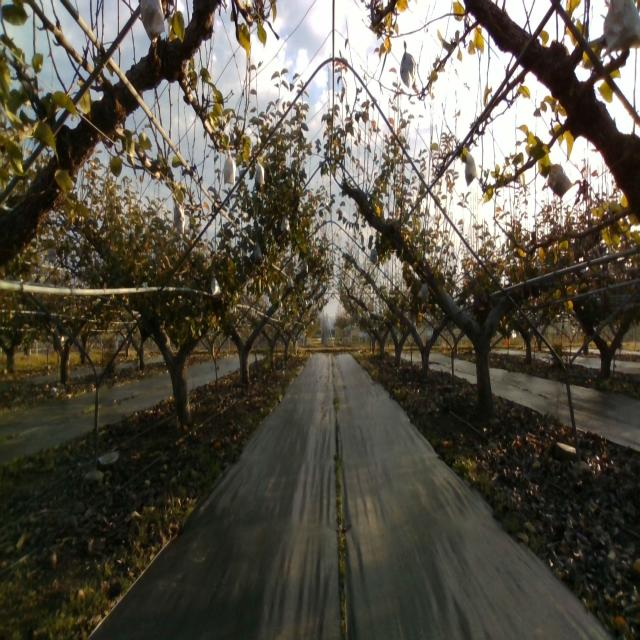pearbags: (601, 0, 640, 59), (140, 0, 165, 48), (547, 164, 573, 198), (400, 40, 416, 88), (172, 194, 185, 235), (223, 152, 236, 186), (464, 151, 476, 187), (255, 157, 265, 185), (418, 282, 430, 303), (211, 276, 221, 296)
